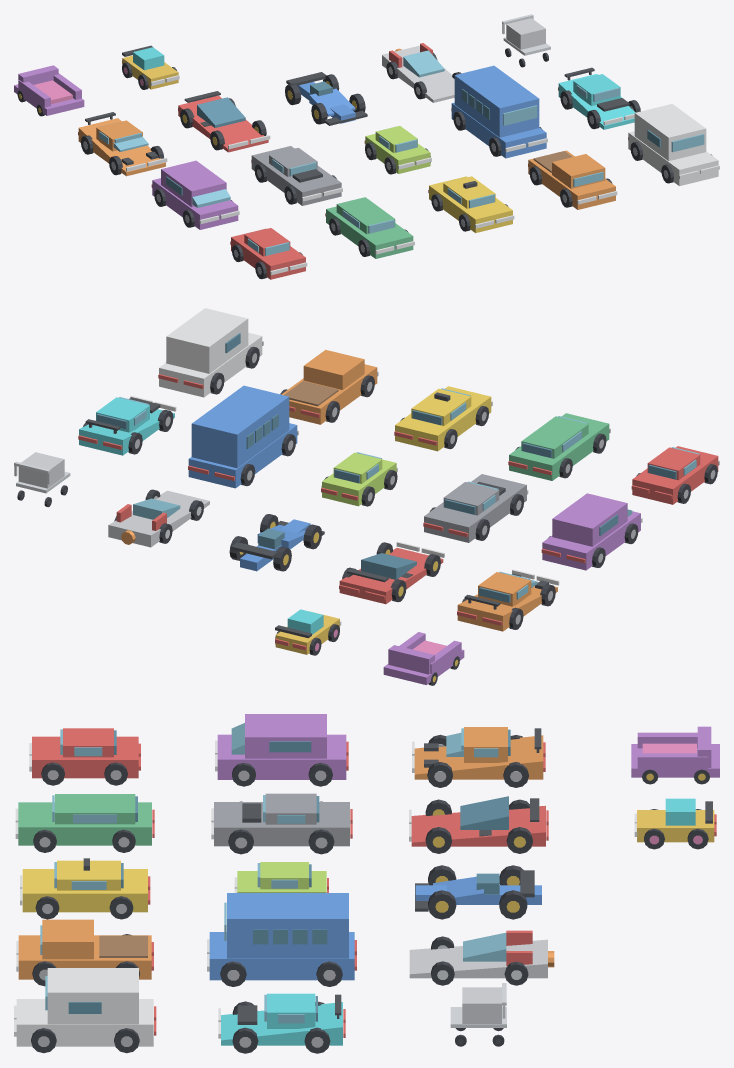
Rendered from all_extra_highway_dash_vehicles.glb.
3 views of the same model, one above another, from view 1: azimuth 30°, elevation 25°; view 2: azimuth 150°, elevation 25°; view 3: azimuth 270°, elevation 25° (orthographic). The views are drawn at different scales.
Parts seen in each view (by area): view 1: traffic_city_bus_blue__bus_upper_1, traffic_delivery_van_white__van_upper_1, traffic_muscle_gray__body_0, traffic_minivan_purple__minivan_roof_1, traffic_delivery_van_white__van_body_0, traffic_wagon_green__body_0, traffic_taxi_yellow__body_0, traffic_city_bus_blue__bus_lower_0, player_hypercar_red__hyper_body_0, player_rocket_car__rocket_body_0, player_supercar_orange__body_0, traffic_pickup_orange__pickup_body_0 (+25 smaller); view 2: traffic_city_bus_blue__bus_upper_1, traffic_delivery_van_white__van_upper_1, traffic_minivan_purple__minivan_roof_1, traffic_muscle_gray__body_0, traffic_taxi_yellow__body_0, traffic_wagon_green__body_0, traffic_delivery_van_white__van_body_0, player_rocket_car__rocket_body_0, traffic_minivan_purple__minivan_body_0, traffic_pickup_orange__pickup_cab_1, traffic_compact_red__body_0, traffic_city_bus_blue__bus_lower_0 (+21 smaller); view 3: traffic_city_bus_blue__bus_upper_1, traffic_delivery_van_white__van_upper_1, traffic_muscle_gray__body_0, traffic_delivery_van_white__van_body_0, traffic_taxi_yellow__body_0, traffic_wagon_green__body_0, traffic_minivan_purple__minivan_roof_1, traffic_city_bus_blue__bus_lower_0, traffic_minivan_purple__minivan_body_0, player_rocket_car__rocket_body_0, player_hypercar_red__hyper_body_0, traffic_compact_red__body_0 (+26 smaller).
Part boxes in pixels (x1,y1,x2,y2): traffic_city_bus_blue__bus_upper_1: (454,65,539,137); traffic_delivery_van_white__van_upper_1: (634,104,706,160); traffic_muscle_gray__body_0: (251,146,341,205); traffic_minivan_purple__minivan_roof_1: (161,160,226,207); traffic_delivery_van_white__van_body_0: (628,131,718,186); traffic_wagon_green__body_0: (326,206,413,258); traffic_taxi_yellow__body_0: (429,176,512,232); traffic_city_bus_blue__bus_lower_0: (451,102,546,158); player_hypercar_red__hyper_body_0: (178,95,268,152); player_rocket_car__rocket_body_0: (382,46,454,102); player_supercar_orange__body_0: (78,118,165,176); traffic_pickup_orange__pickup_body_0: (528,150,615,209); traffic_city_bus_blue__bus_upper_1: (191,385,289,468); traffic_delivery_van_white__van_upper_1: (166,308,248,373); traffic_minivan_purple__minivan_roof_1: (552,493,627,546); traffic_muscle_gray__body_0: (424,474,526,542); traffic_taxi_yellow__body_0: (395,386,491,451); traffic_wagon_green__body_0: (509,413,609,480); traffic_delivery_van_white__van_body_0: (159,332,262,397); player_rocket_car__rocket_body_0: (108,490,209,547); traffic_minivan_purple__minivan_body_0: (542,511,640,570); traffic_pickup_orange__pickup_cab_1: (303,349,364,389); traffic_compact_red__body_0: (632,446,718,504); traffic_city_bus_blue__bus_lower_0: (188,423,297,488); traffic_city_bus_blue__bus_upper_1: (227,893,348,958); traffic_delivery_van_white__van_upper_1: (47,968,138,1024); traffic_muscle_gray__body_0: (214,802,349,846); traffic_delivery_van_white__van_body_0: (16,999,153,1046); traffic_taxi_yellow__body_0: (22,869,147,912); traffic_wagon_green__body_0: (18,802,151,845); traffic_minivan_purple__minivan_roof_1: (245,714,326,758); traffic_city_bus_blue__bus_lower_0: (209,932,354,980); traffic_minivan_purple__minivan_body_0: (217,734,346,779); player_rocket_car__rocket_body_0: (409,939,547,978); player_hypercar_red__hyper_body_0: (411,805,545,846); traffic_compact_red__body_0: (32,736,138,778).
Size of the model in its own units: 21.38 by 2.24 by 21.52.
